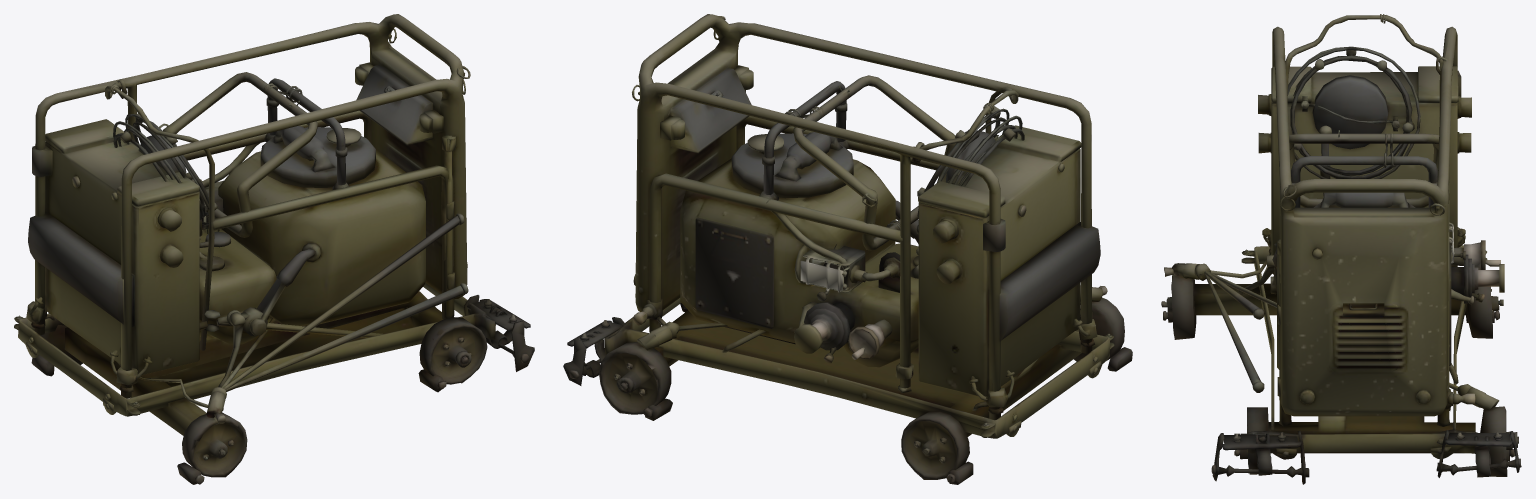
The model's file is ch4_meridian_generator.glb.
3 renders of one model, left to right at view 1: azimuth 30°, elevation 25°; view 2: azimuth 150°, elevation 25°; view 3: azimuth 270°, elevation 25°, orthographic. The views are drawn at different scales.
Visible parts, largest first — view 1: tripo_node_9e752b1c-60be-4cdb-9f9e-50ec3e205cbf; view 2: tripo_node_9e752b1c-60be-4cdb-9f9e-50ec3e205cbf; view 3: tripo_node_9e752b1c-60be-4cdb-9f9e-50ec3e205cbf.
Part boxes in pixels (<box>): tripo_node_9e752b1c-60be-4cdb-9f9e-50ec3e205cbf: <box>14,14,534,484</box>; tripo_node_9e752b1c-60be-4cdb-9f9e-50ec3e205cbf: <box>563,14,1132,484</box>; tripo_node_9e752b1c-60be-4cdb-9f9e-50ec3e205cbf: <box>1161,14,1521,484</box>.
Size of the model in its own units: 0.998 by 0.7676 by 0.7793.
1 material, 1 textured.
